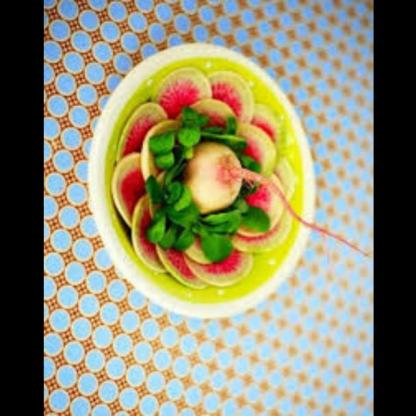redka: (118, 58, 301, 296), (189, 139, 243, 215)
